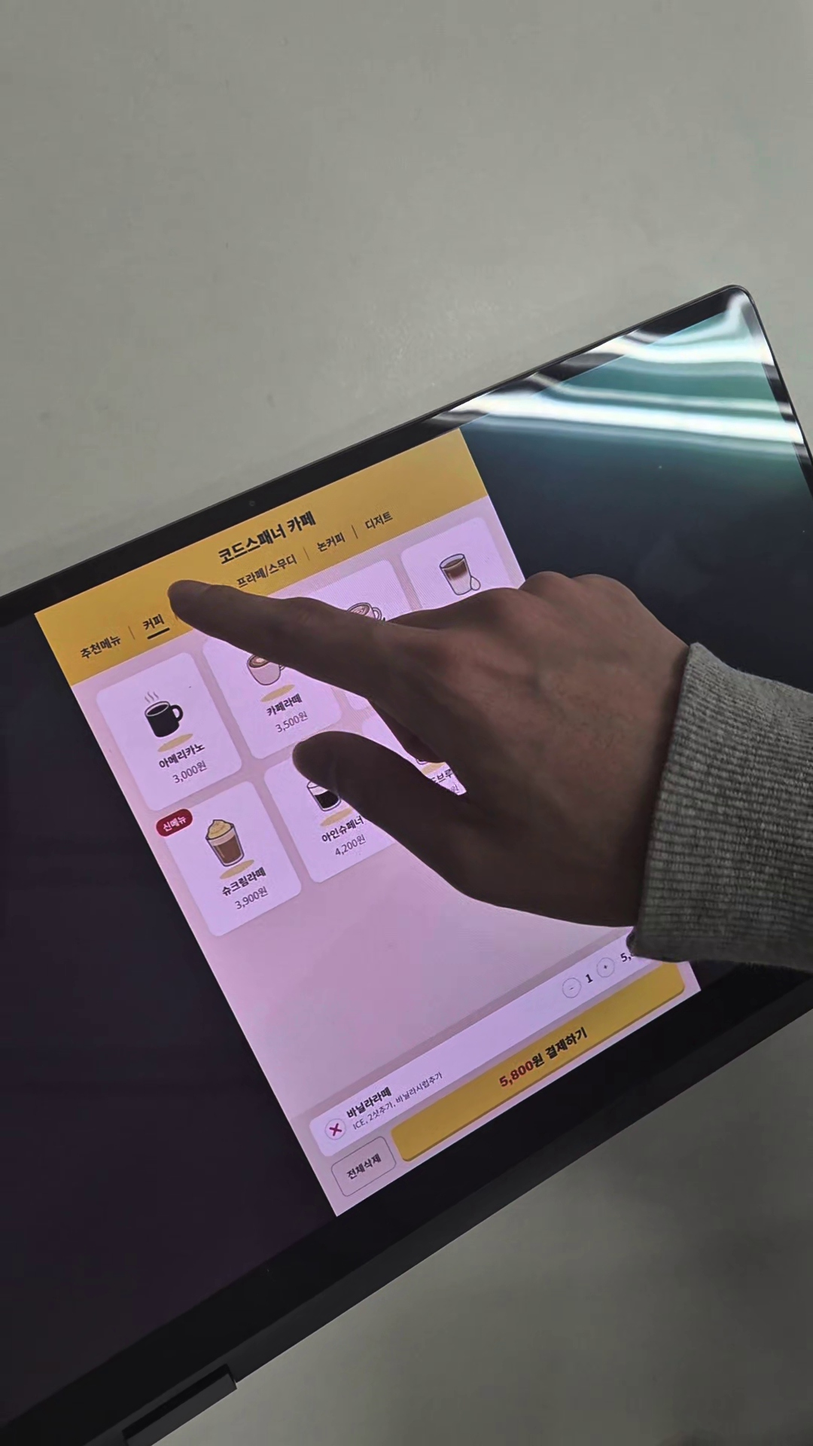action_button: (392, 962, 684, 1161), (332, 1136, 395, 1195)
cart_item: (307, 918, 673, 1159)
category_tab: (229, 548, 303, 596), (73, 630, 127, 665), (310, 526, 350, 560), (358, 505, 397, 535), (139, 610, 166, 636)
menu_back: (97, 654, 243, 810), (161, 781, 303, 938), (205, 603, 345, 759), (264, 733, 401, 884)
menu_name: (153, 739, 206, 773), (257, 688, 310, 722), (314, 813, 367, 847), (216, 865, 269, 898)
menu_price: (271, 708, 312, 737), (230, 884, 271, 913), (329, 832, 370, 861), (169, 759, 210, 787)
